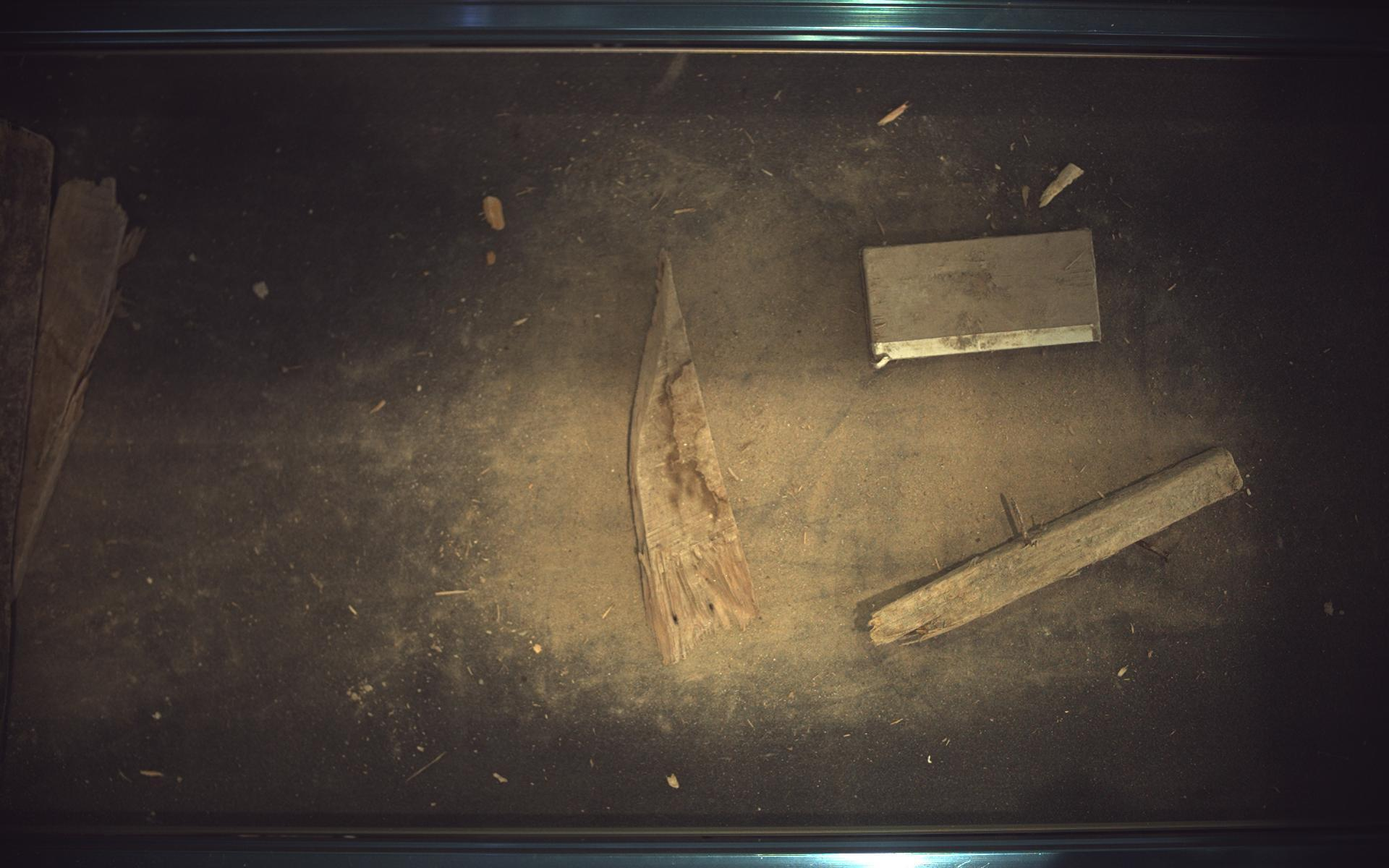wood: (871, 448, 1246, 645), (11, 177, 141, 597), (630, 249, 760, 665), (864, 229, 1103, 367), (1, 119, 52, 608)
